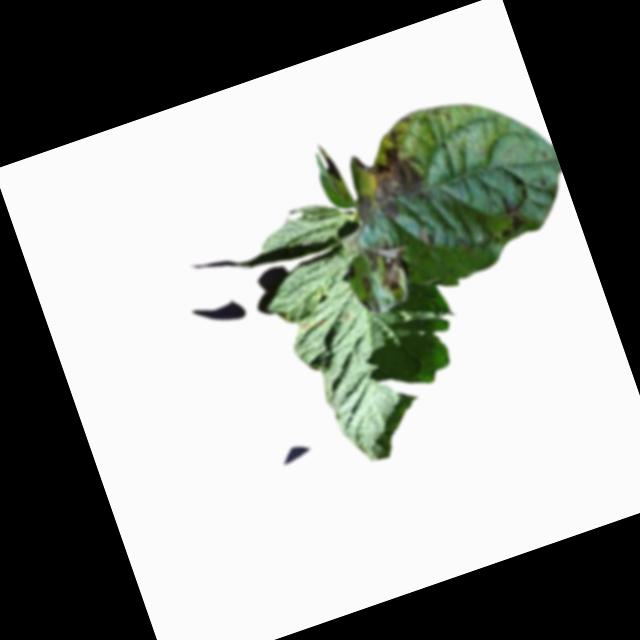Early_blight: (339, 128, 434, 229), (361, 232, 421, 298), (498, 190, 530, 233), (300, 315, 329, 338), (337, 262, 361, 284), (356, 273, 376, 297)
